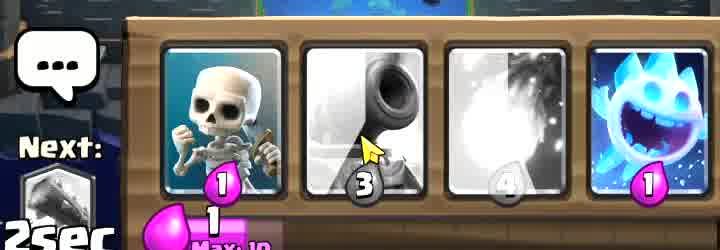ice-spirit: (594, 45, 710, 198)
